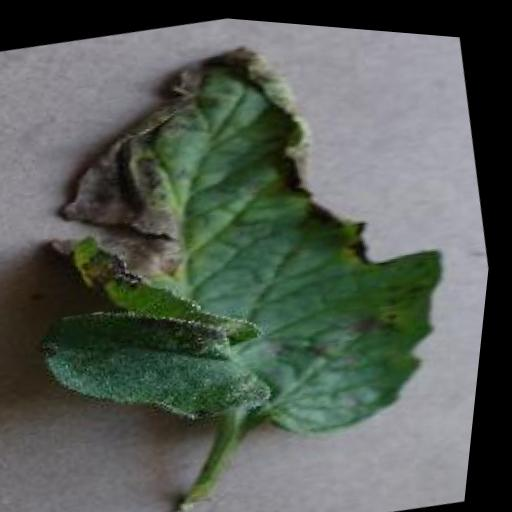Early Blight: (0, 1, 502, 495)
